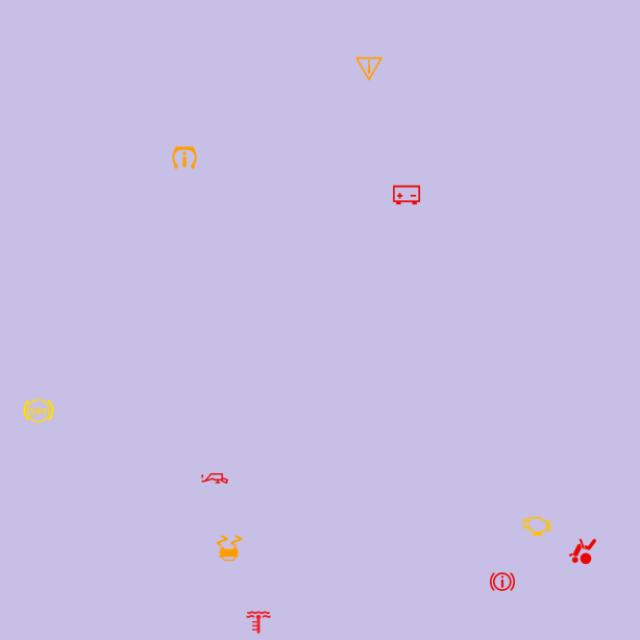Anti Lock Braking System: (22, 393, 56, 428)
Braking System Issue: (486, 564, 520, 598)
Charging System Issue: (389, 178, 424, 212)
Check Engine: (520, 509, 554, 544)
Electronic Stability Problem -ESP-: (212, 532, 246, 566)
Engine Overheating Warning Light: (242, 606, 276, 640)
Low Engine Oil Warning Light: (198, 462, 232, 496)
Low Tire Pressure Warning Light: (168, 140, 202, 174)
Master warning light: (352, 52, 386, 86)
SRS-Airbag: (566, 534, 600, 568)
